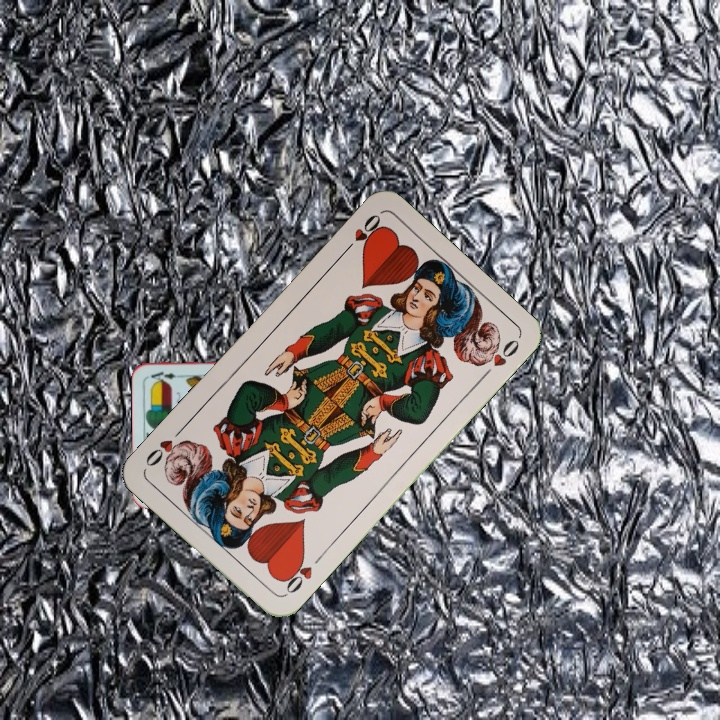HO: (277, 550, 325, 598), (338, 210, 385, 257)
